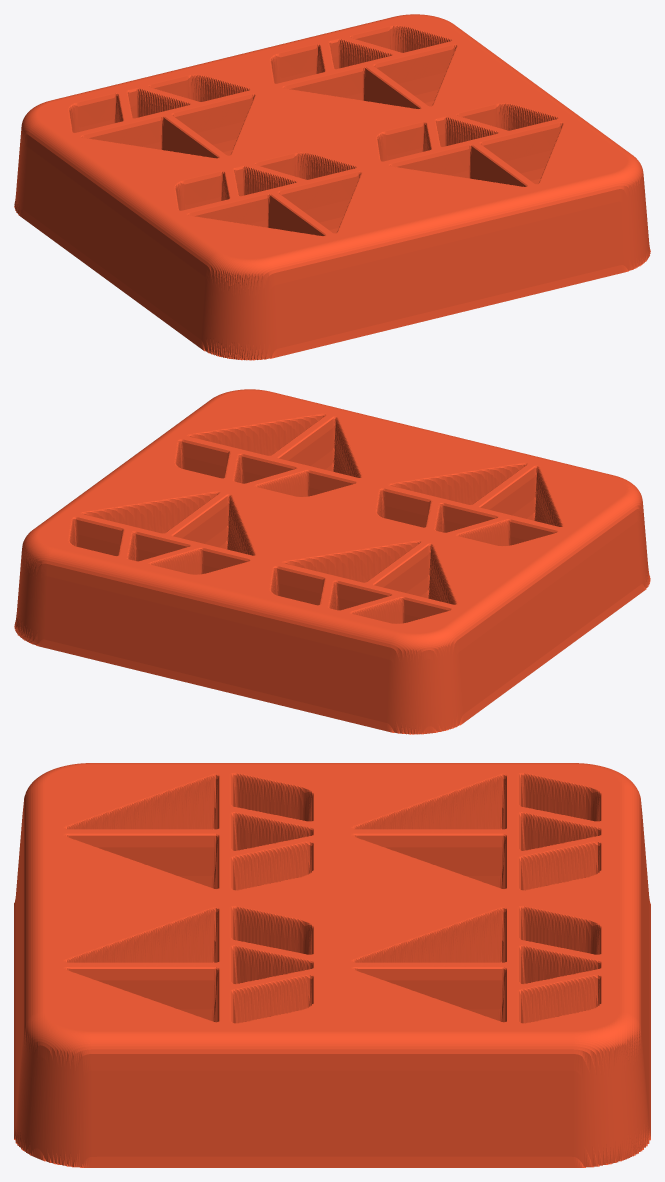
File: mold.glb
The picture shows the model from 3 angles, top to bottom: view 1: azimuth 30°, elevation 25°; view 2: azimuth 150°, elevation 25°; view 3: azimuth 270°, elevation 25°; orthographic projection. The views are drawn at different scales.
Visible parts, largest first — view 1: geometry_0; view 2: geometry_0; view 3: geometry_0.
Boxes of the visible parts, <box> form: geometry_0: <box>14,14,650,360</box>; geometry_0: <box>14,389,650,734</box>; geometry_0: <box>14,763,650,1167</box>.
Size of the model in its own units: 0.0808 by 0.0159 by 0.0744.
